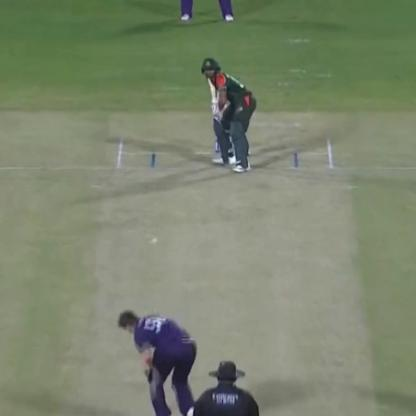ball: (144, 231, 166, 254)
bat: (198, 56, 218, 122)
pitch: (77, 131, 373, 416)
